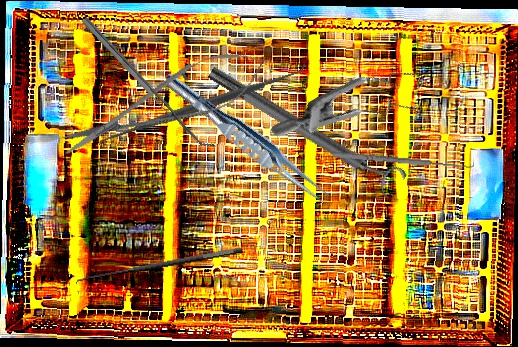Fixation Ring: (202, 55, 409, 203)
Hook Surgical: (74, 244, 245, 296), (332, 145, 475, 172)
Micro Scissor: (49, 33, 279, 174)
Spatula Surgical: (94, 57, 311, 153), (81, 11, 217, 156)
Speculum: (269, 26, 440, 198)
Tissue Forceps: (156, 68, 339, 211)
